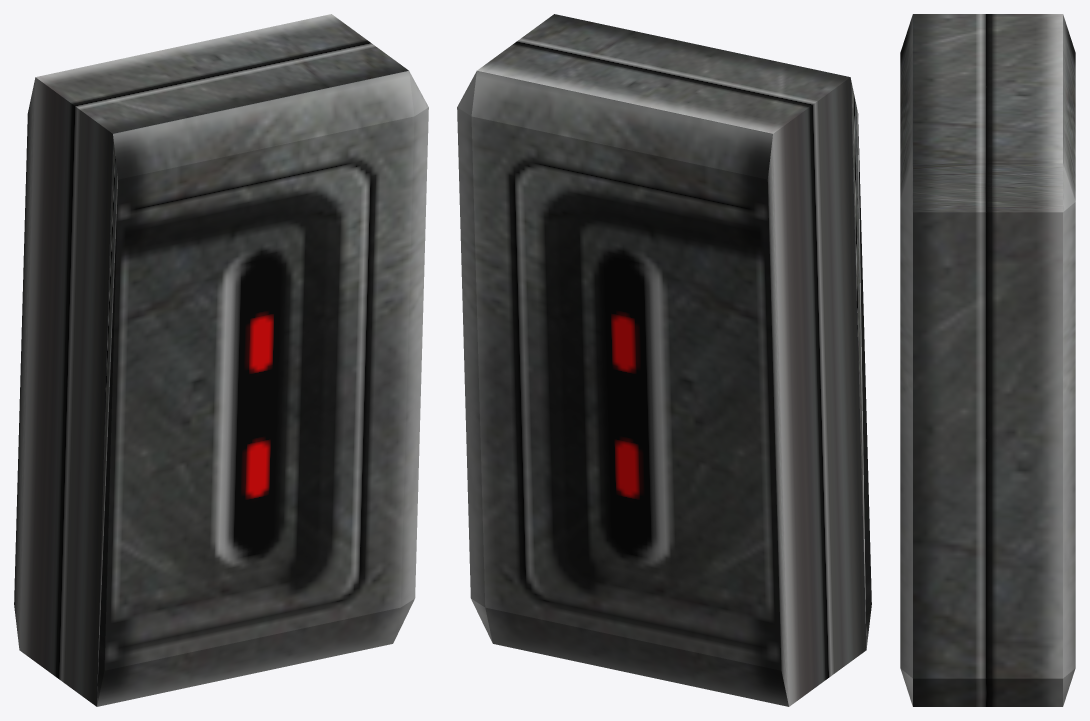
The model's file is rep_pistol_mag.fbx.
3 views of the same model, side by side, from view 1: azimuth 30°, elevation 25°; view 2: azimuth 150°, elevation 25°; view 3: azimuth 270°, elevation 25° (orthographic). The views are drawn at different scales.
Visible parts, largest first — view 1: cartridge1; view 2: cartridge1; view 3: cartridge1.
Boxes of the visible parts, bbox=[...] form: cartridge1: bbox=[14, 14, 428, 706]; cartridge1: bbox=[457, 14, 871, 706]; cartridge1: bbox=[900, 14, 1075, 706].
Size of the model in its own units: 4.87 by 8.11 by 2.3.
1 material, 1 textured.
